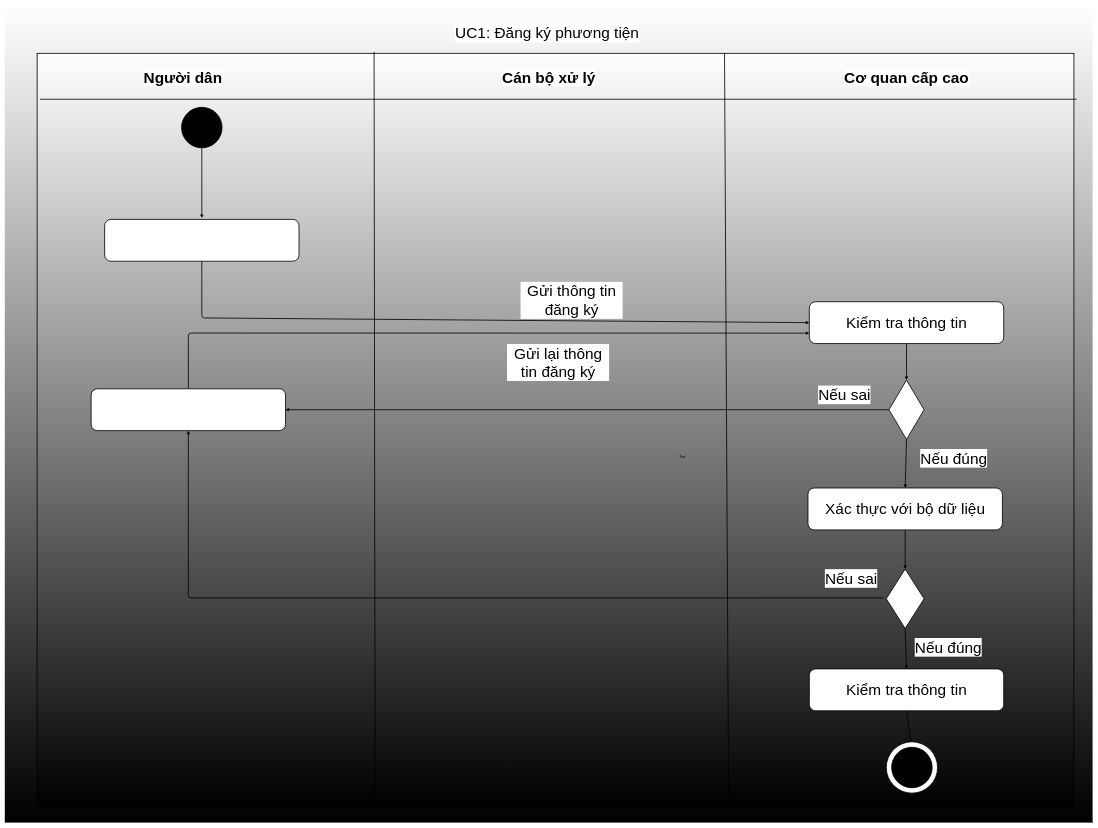
Image size: 1098x828. Some labels were removed from this diagram. Here are the shapes that lost their labels. From the top down, the centre of each, then its label:
At [201,240]: "Nhập thông tin phương tiện".
At [188,409]: "Nhập lại thông tin".
